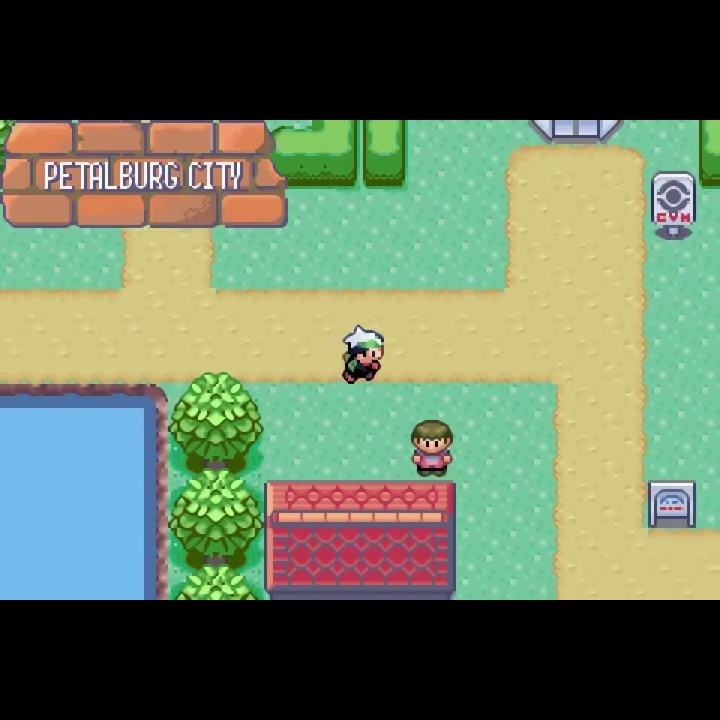house: (261, 477, 459, 602)
npc: (339, 324, 388, 388), (408, 419, 457, 479)
wall: (167, 372, 265, 471), (167, 469, 264, 564), (168, 564, 262, 599)
